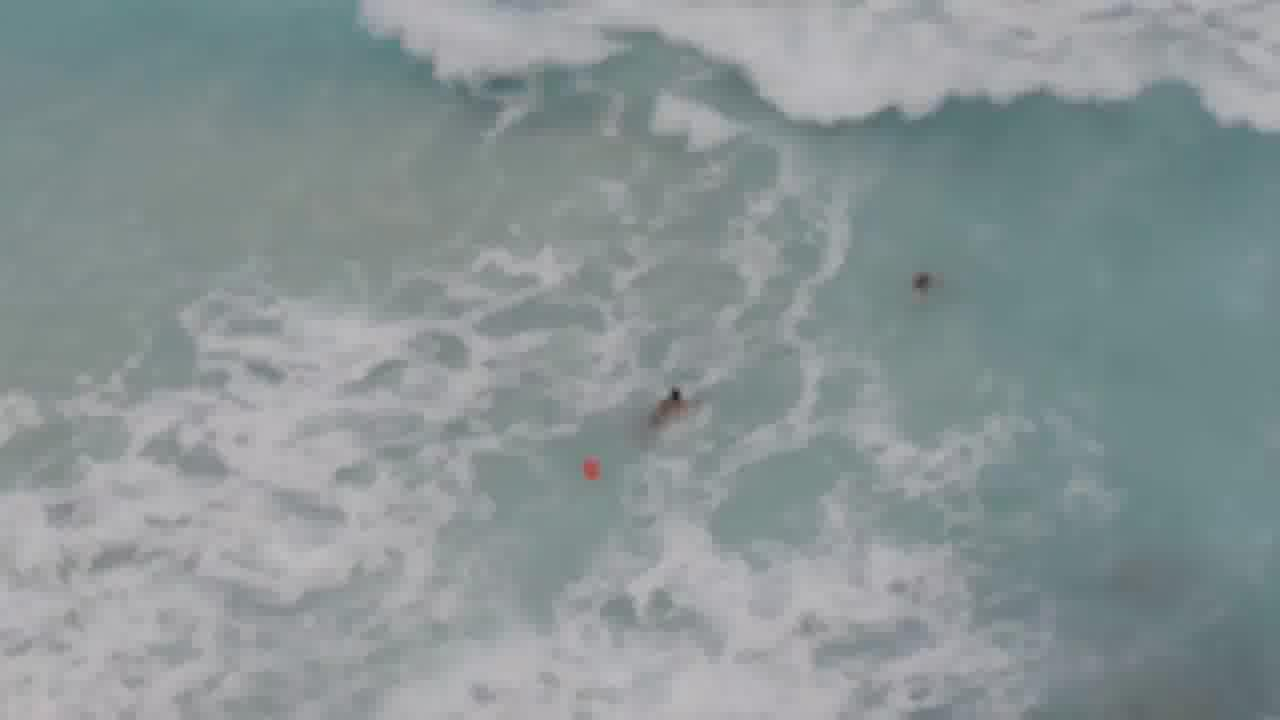swimmer: (655, 377, 703, 429), (905, 264, 942, 311)
